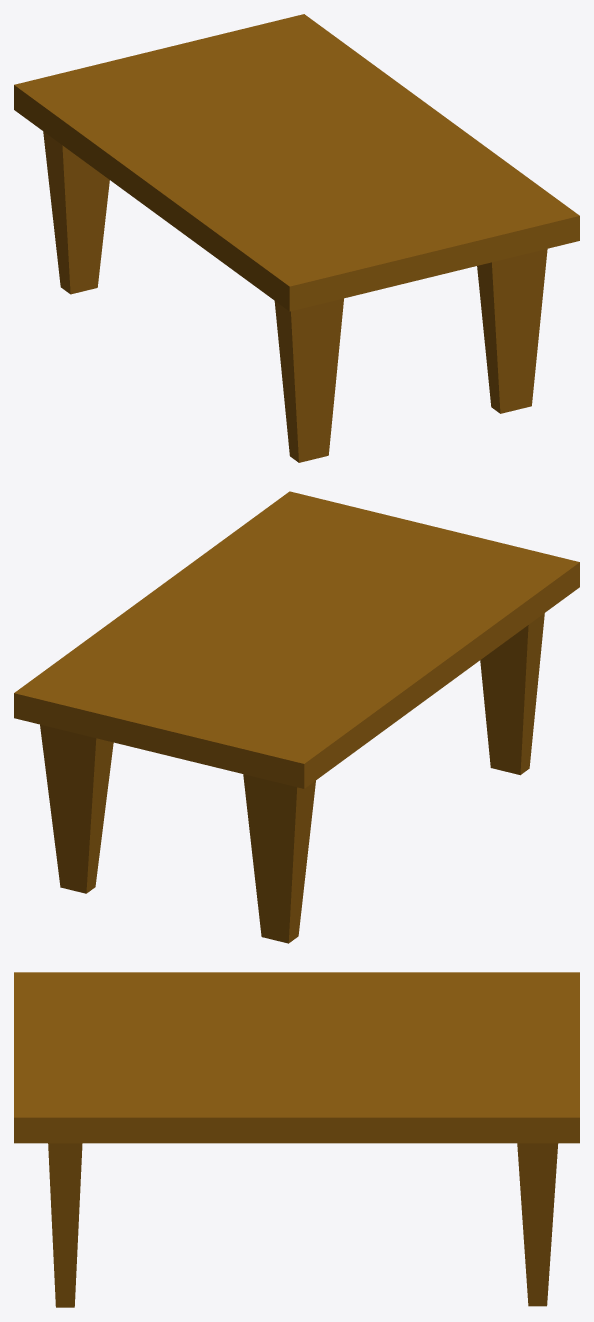
File: Masa.fbx
3 views of the same model, one above another, from view 1: azimuth 30°, elevation 25°; view 2: azimuth 150°, elevation 25°; view 3: azimuth 270°, elevation 25° (orthographic). The views are drawn at different scales.
Parts seen in each view (by area): view 1: Cube; view 2: Cube; view 3: Cube.
Part boxes in pixels (x1=…): Cube: x1=14, y1=14, x2=579, y2=462; Cube: x1=14, y1=491, x2=579, y2=943; Cube: x1=14, y1=972, x2=579, y2=1307.
Size of the model in its own units: 893 by 584 by 1470.
